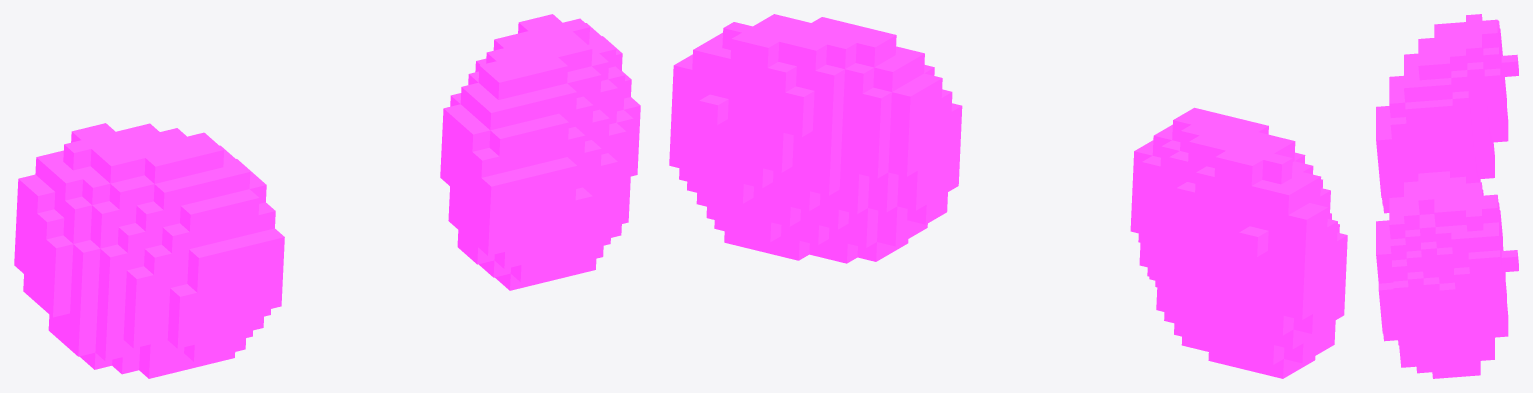
The model's file is hot-pink.gltf.
The picture shows the model from 3 angles, left to right: view 1: azimuth 30°, elevation 25°; view 2: azimuth 150°, elevation 25°; view 3: azimuth 270°, elevation 25°; orthographic projection. The views are drawn at different scales.
Parts seen in each view (by area): view 1: 眼睛.1; view 2: 眼睛.1; view 3: 眼睛.1.
Part boxes in pixels (left/top/right/bottom): 眼睛.1: left=14, top=14, right=640, bottom=378; 眼睛.1: left=669, top=14, right=1347, bottom=378; 眼睛.1: left=1376, top=14, right=1518, bottom=378.
Size of the model in its own units: 2.72 by 0.9235 by 0.7175.
